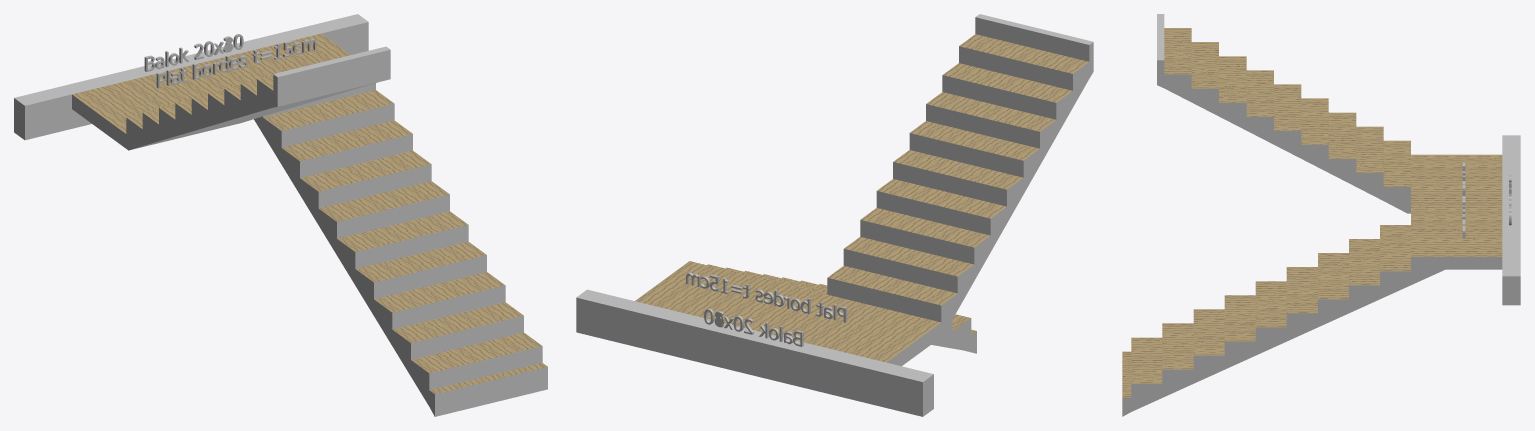
Rendered from Tangga.fbx.
The picture shows the model from 3 angles, left to right: view 1: azimuth 30°, elevation 25°; view 2: azimuth 150°, elevation 25°; view 3: azimuth 270°, elevation 25°; orthographic projection. The views are drawn at different scales.
Visible parts, largest first — view 1: Model, Plat_bordes_t_15_1_1, Balok_20x30_1; view 2: Model, Plat_bordes_t_15_1_1, Balok_20x30_1; view 3: Model.
Part boxes in pixels (bbox=[...]): Model: bbox=[14, 14, 547, 416]; Plat_bordes_t_15_1_1: bbox=[156, 38, 316, 88]; Balok_20x30_1: bbox=[144, 34, 243, 71]; Model: bbox=[576, 14, 1093, 416]; Plat_bordes_t_15_1_1: bbox=[686, 272, 847, 322]; Balok_20x30_1: bbox=[704, 308, 803, 346]; Model: bbox=[1122, 14, 1520, 416].
Size of the model in its own units: 3.65 by 3.63 by 4.36.
